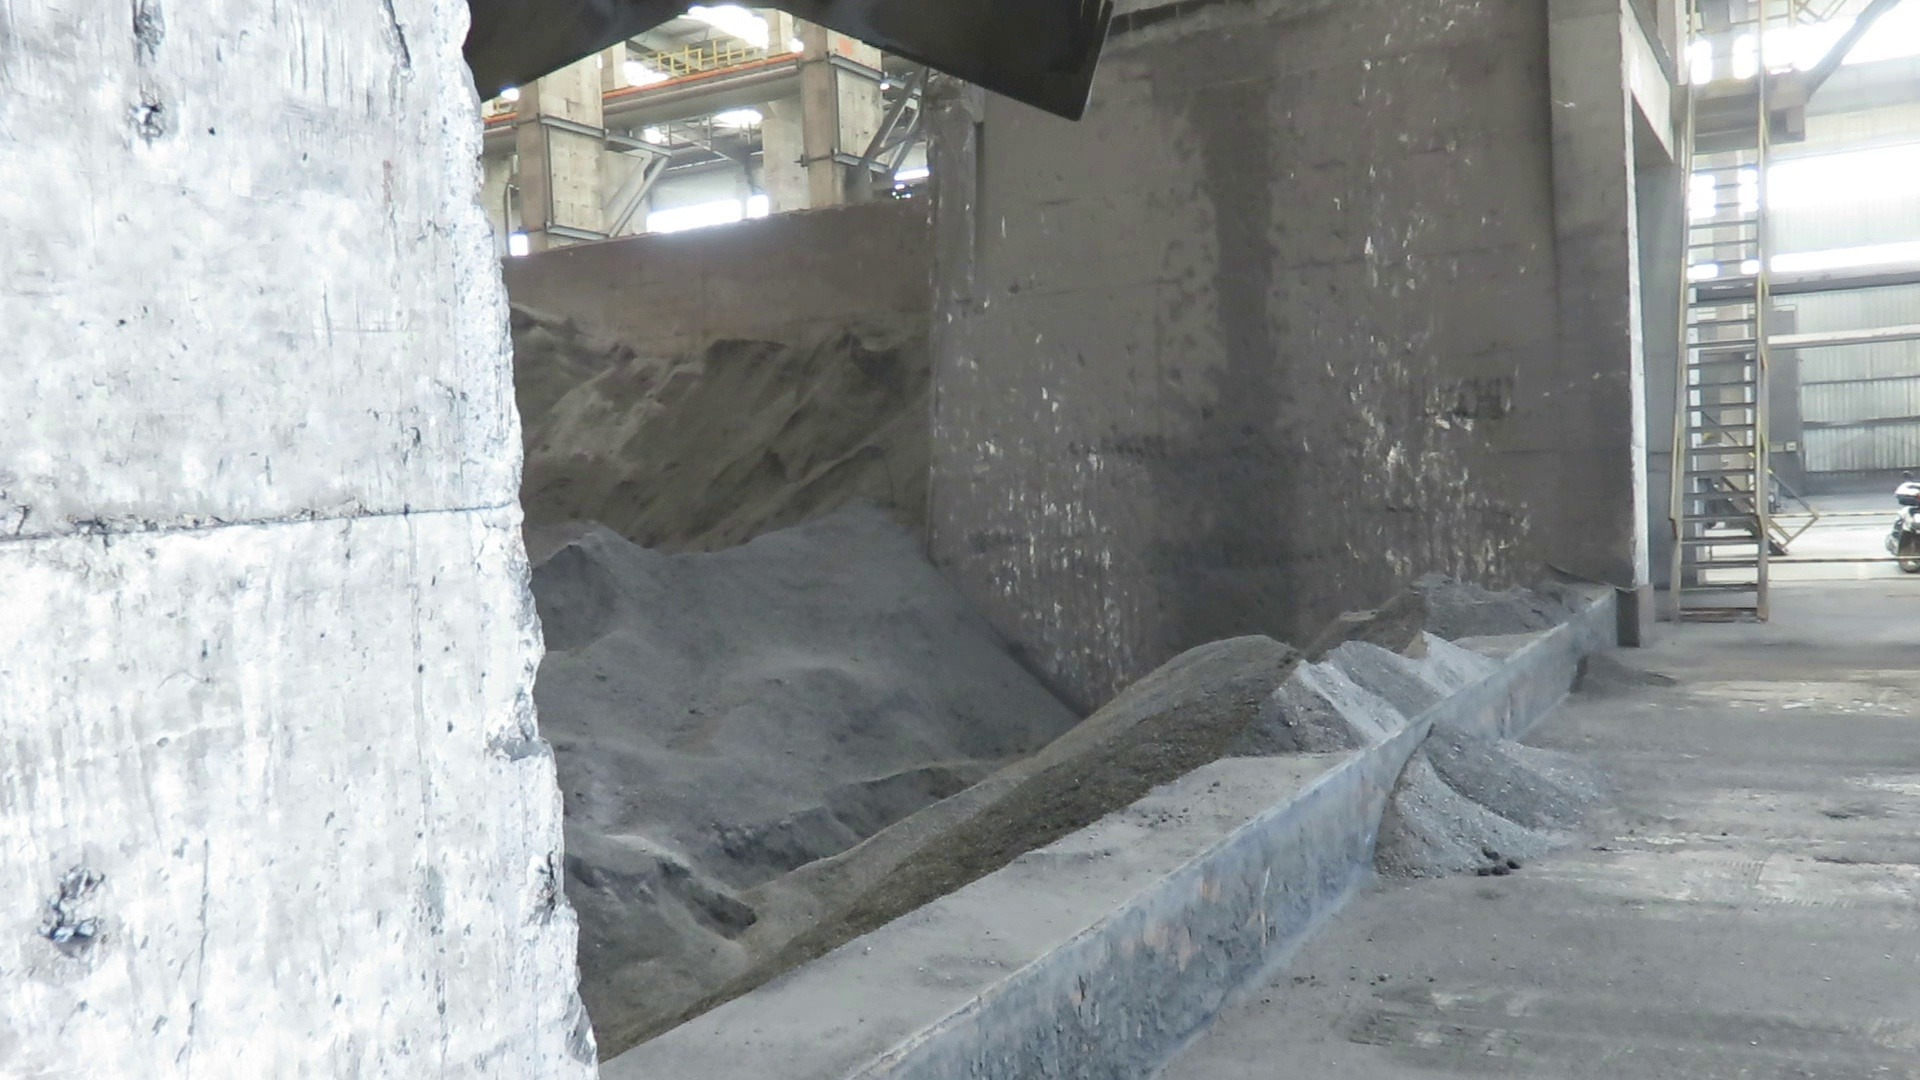grab: (459, 0, 1112, 127)
